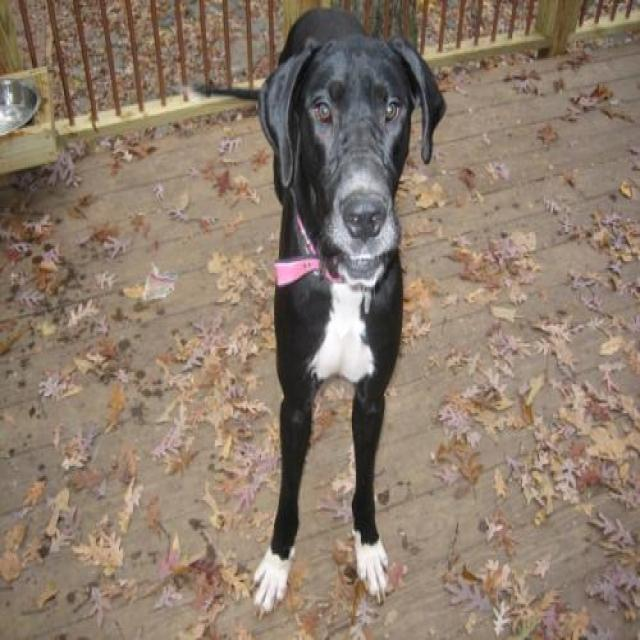Dogs: (191, 5, 445, 618)
